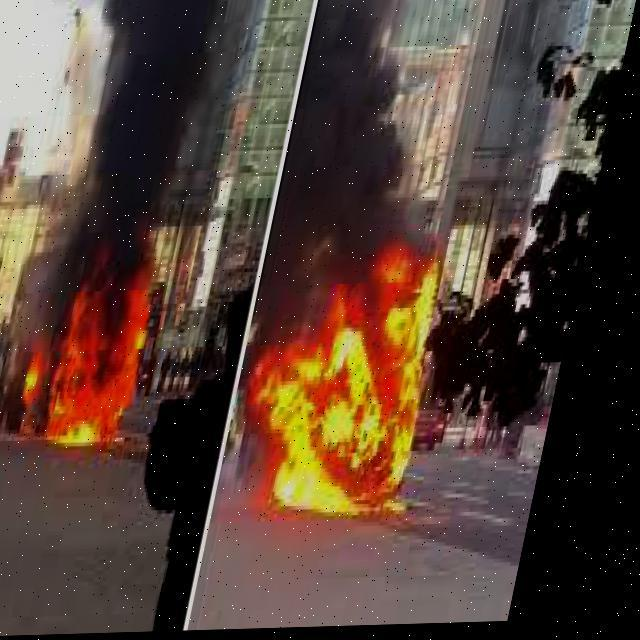Fire: (244, 250, 485, 518), (5, 249, 202, 464)
